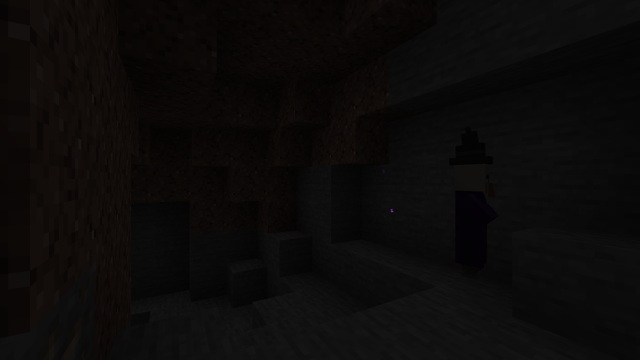sorcieres: (447, 158, 492, 283)
